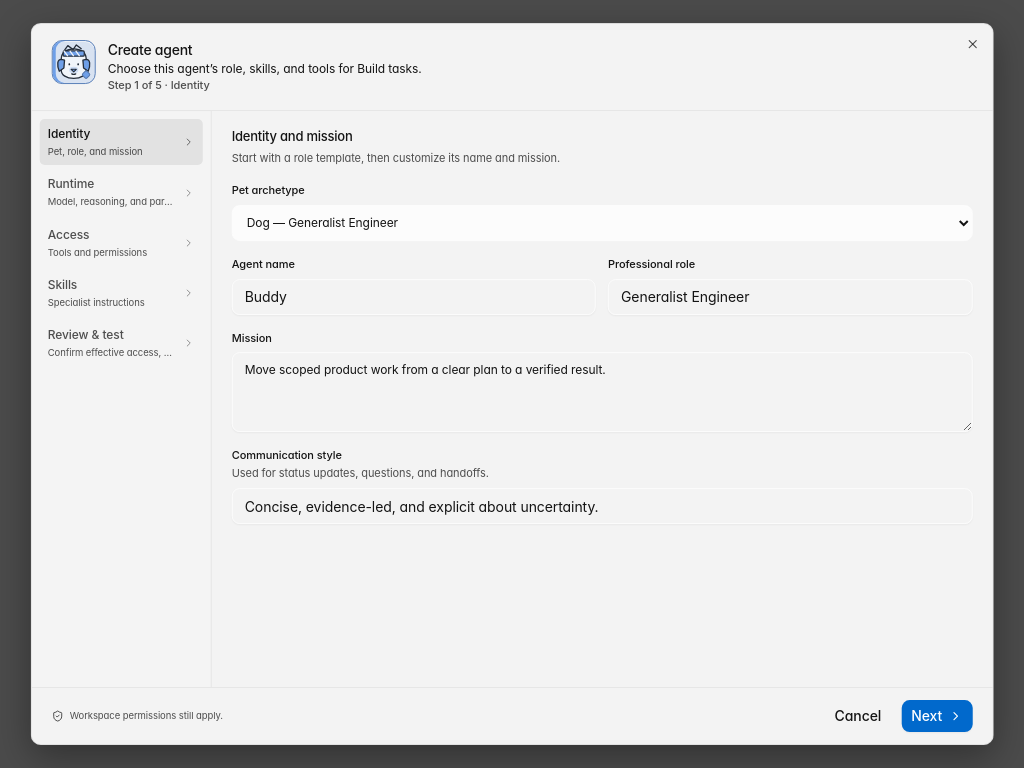
Test case: Agent creation: a guided five-step flow › only enables Save & test once a test prompt is written
The width and height of the screenshot is (1024, 768).
Step 1. Click the button "Next" → [937, 716], box [901,700,972,732]
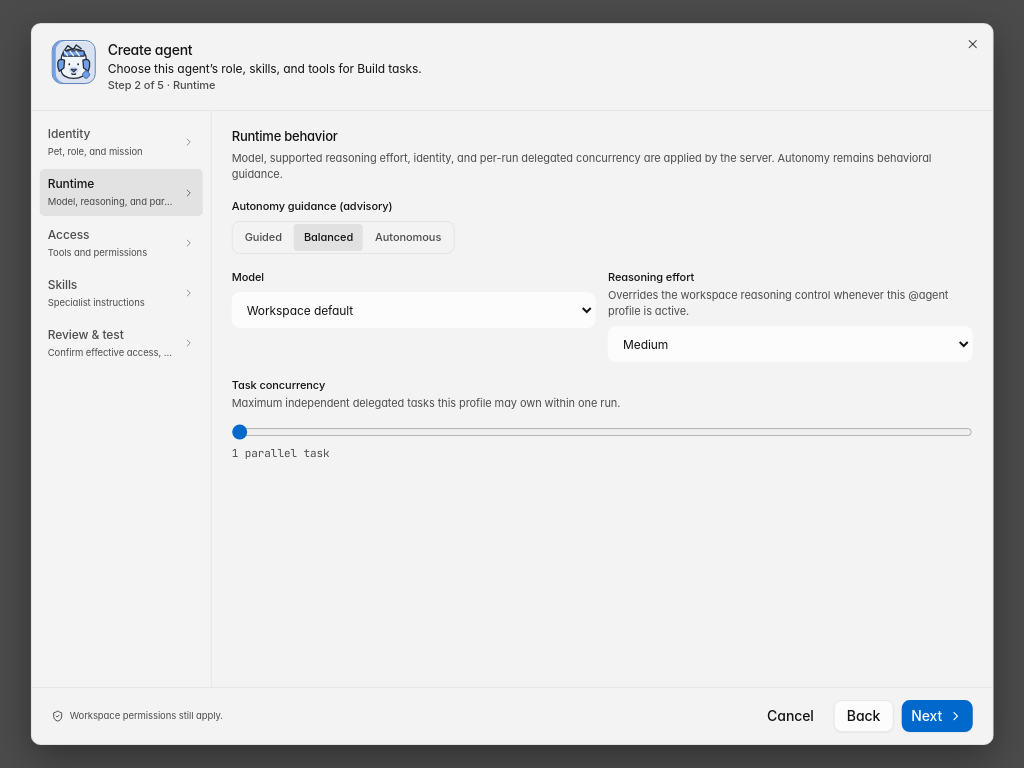
Step 2. Click the button "Next" → [937, 716], box [901,700,972,732]
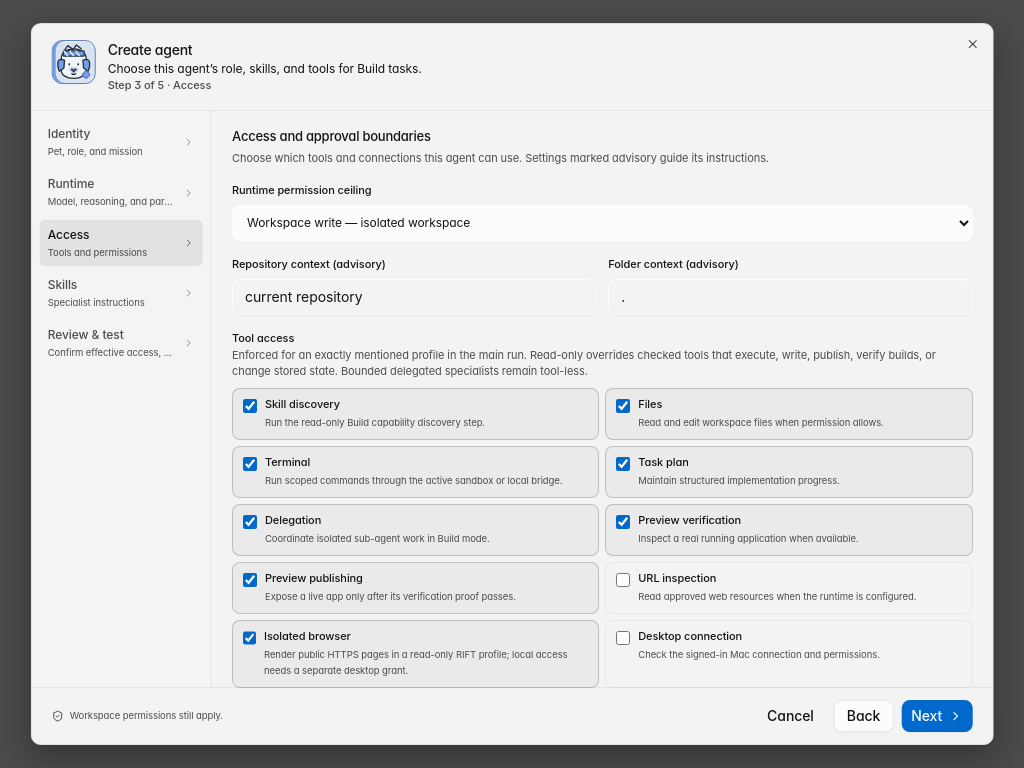
Step 3. Click the button "Next" → [937, 716], box [901,700,972,732]
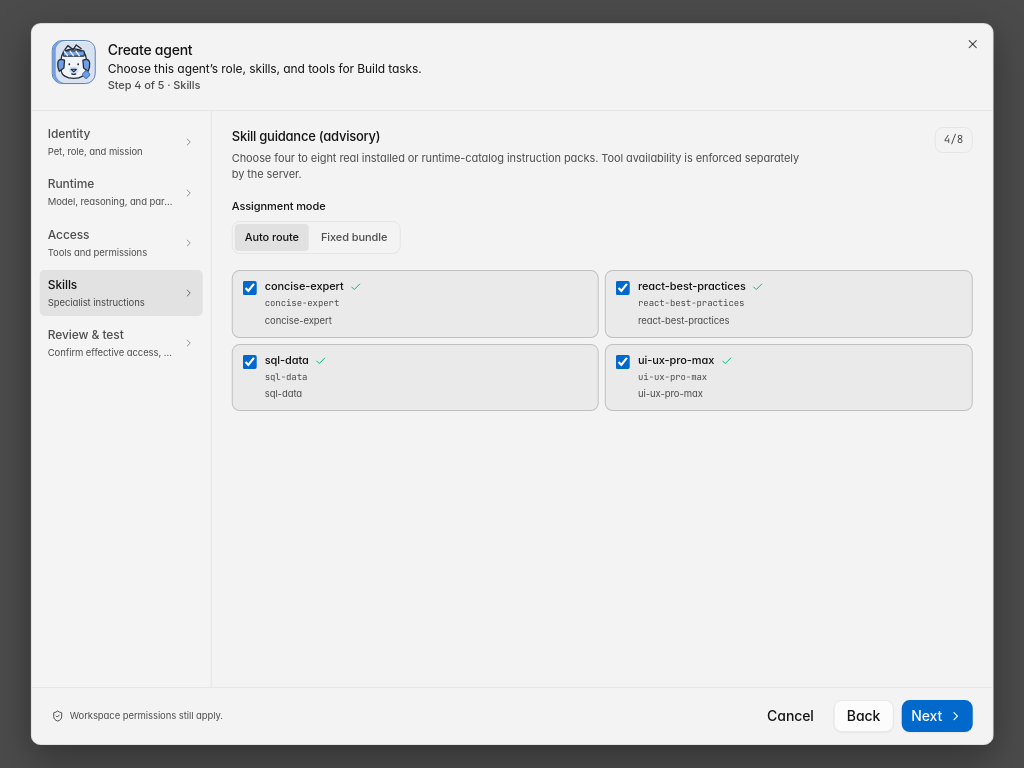
Step 4. Click the button "Next" → [937, 716], box [901,700,972,732]
(page scrolled)
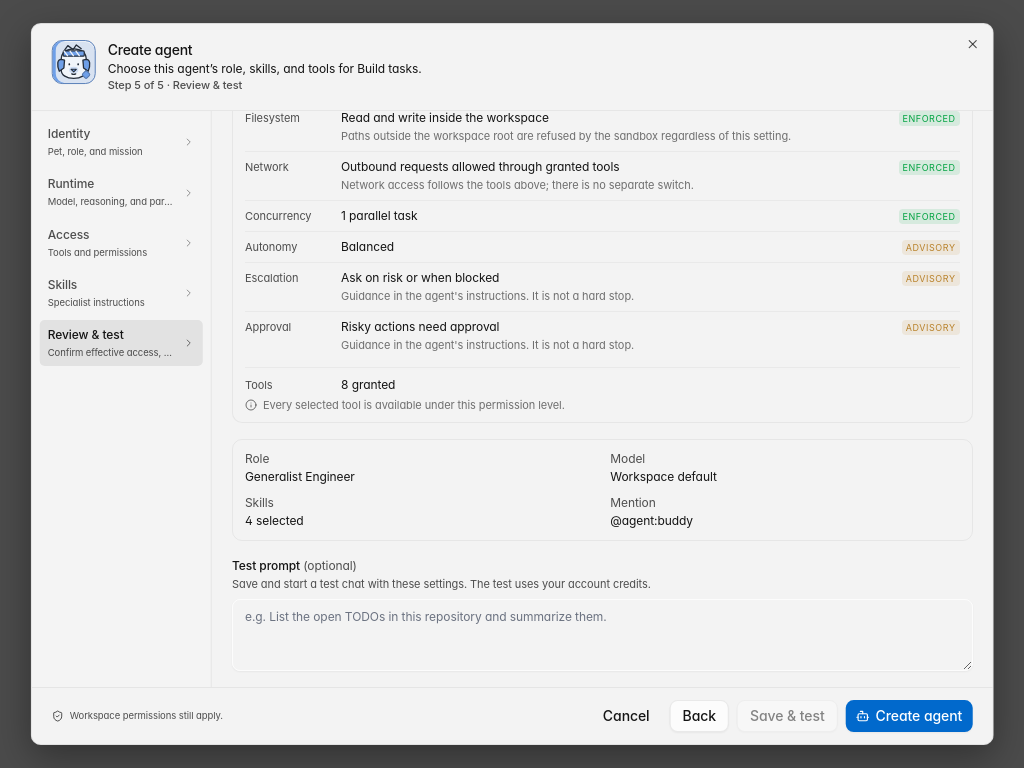
Expected: the button "Save & test" is disabled, [737,700,838,732]
Step 5. Replace the text in the text box labelled "Test prompt (optional)" with "list the open todos" → [602, 635], box [232,599,972,671]
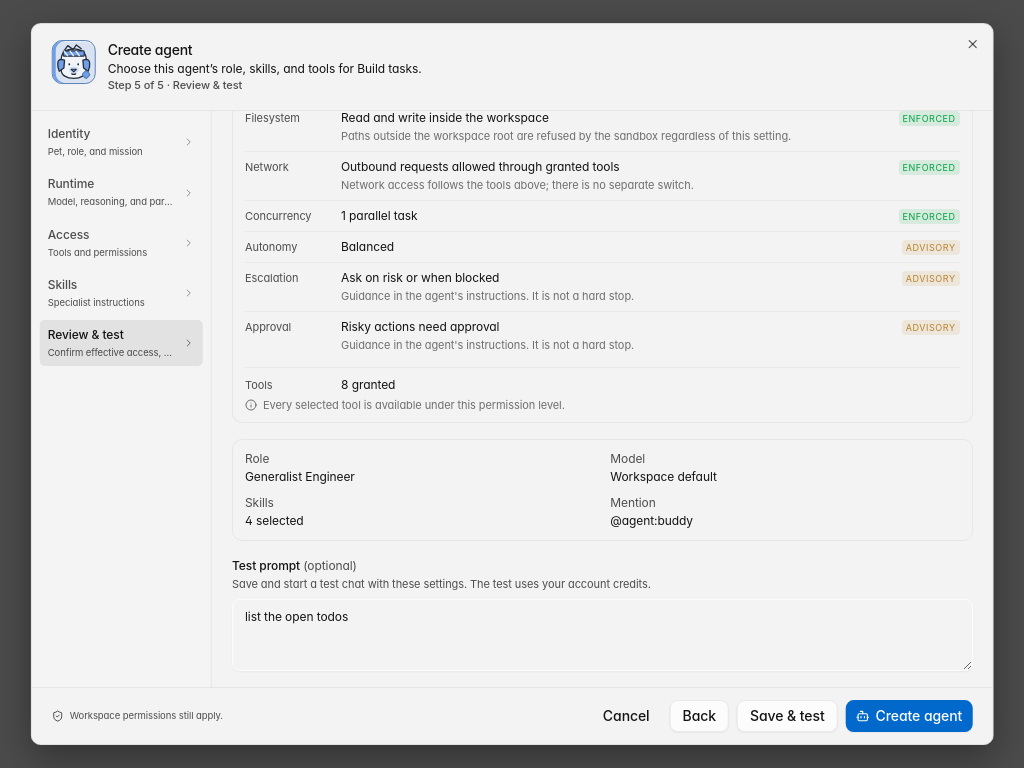
Expected: the button "Save & test" is enabled, [737,700,838,732]
